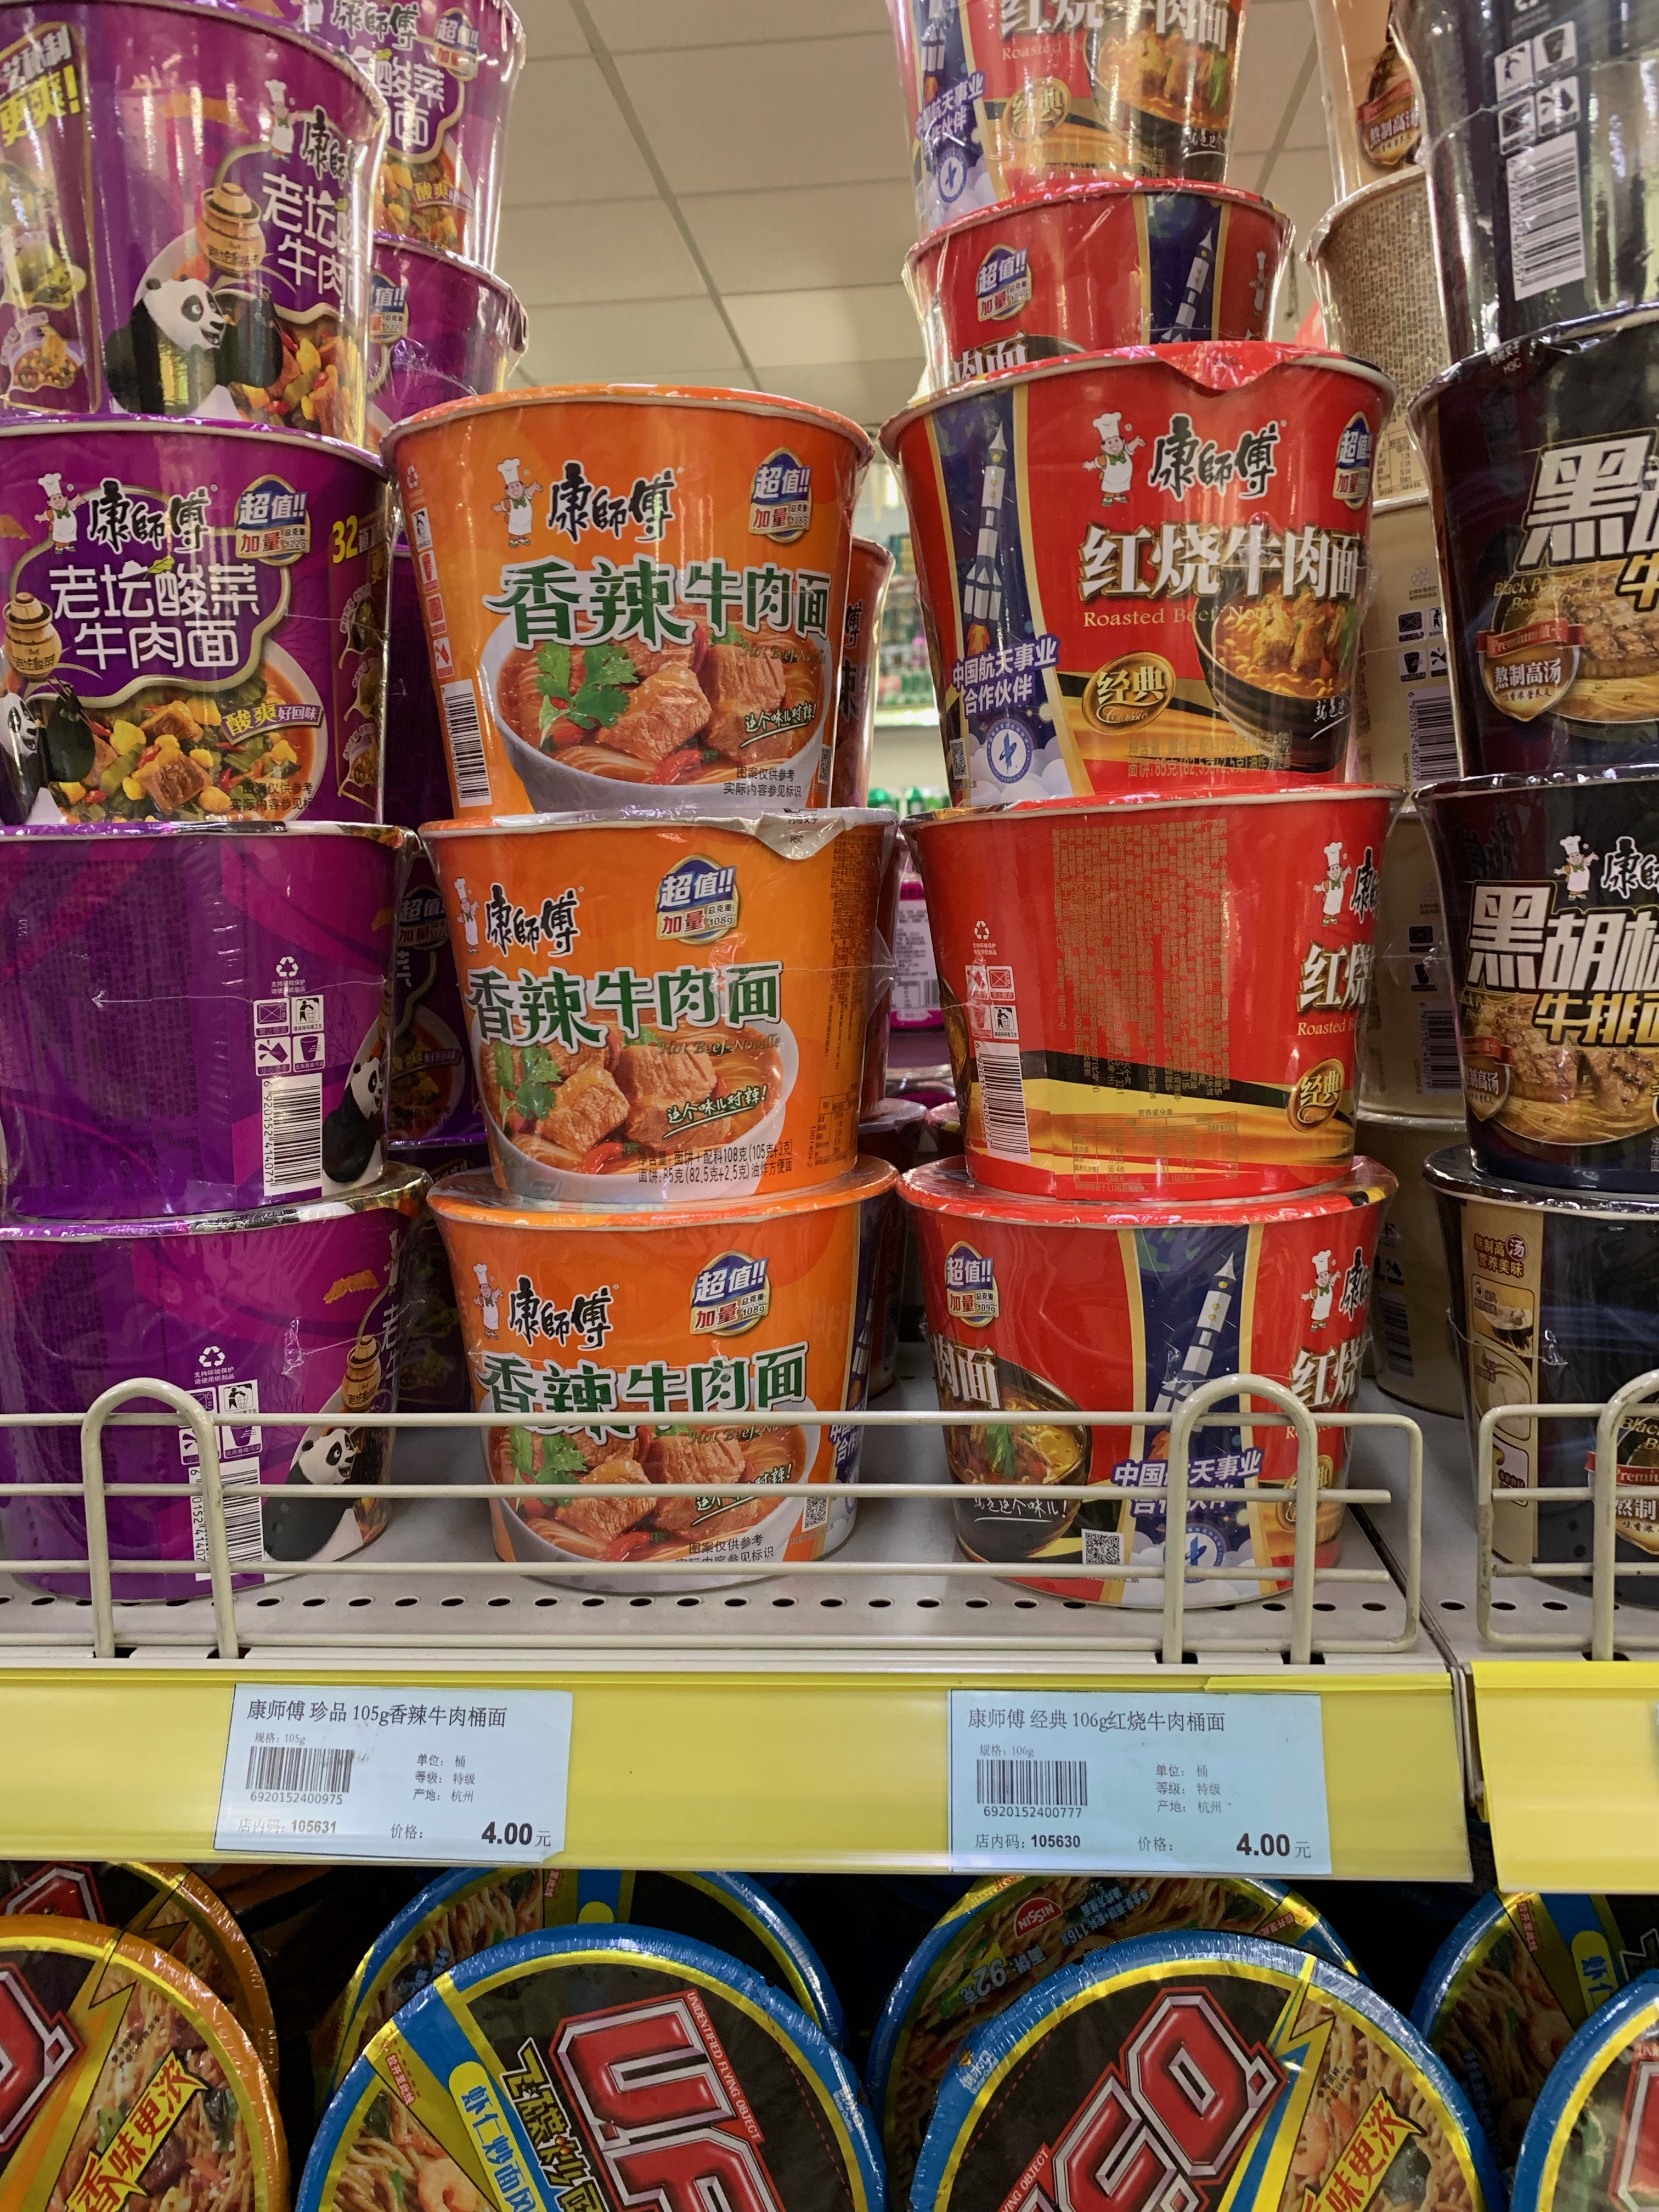xiangla: (380, 383, 882, 813), (420, 1176, 903, 1599), (410, 815, 897, 1207)
